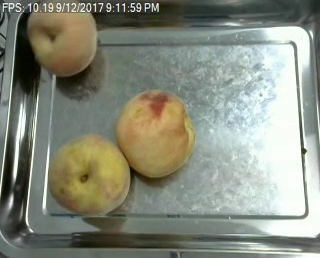Peach: (115, 88, 195, 177), (49, 133, 129, 216), (27, 2, 98, 77)
